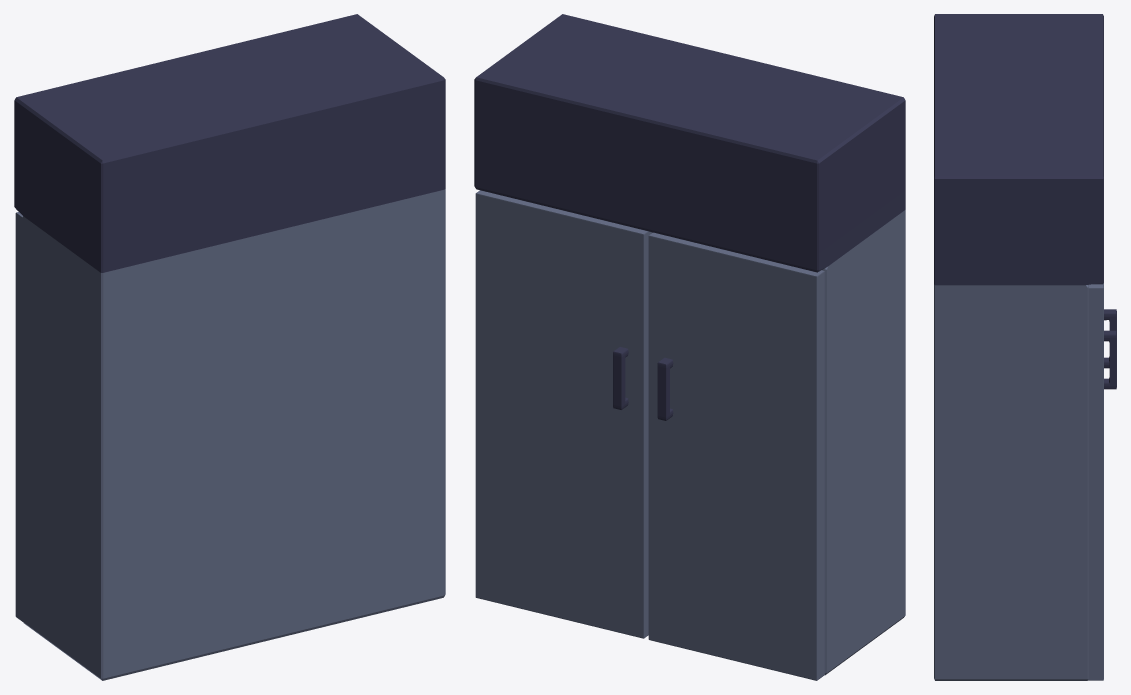
The model's file is F_Refrigerator_001.fbx.
The picture shows the model from 3 angles, left to right: view 1: azimuth 30°, elevation 25°; view 2: azimuth 150°, elevation 25°; view 3: azimuth 270°, elevation 25°; orthographic projection. The views are drawn at different scales.
Visible parts, largest first — view 1: F_Refrigerator_001, F_RefrigeratorDoor_001; view 2: F_Refrigerator_001, F_RefrigeratorDoor_001, F_RefrigeratorDoor_002; view 3: F_Refrigerator_001, F_RefrigeratorDoor_002, F_RefrigeratorDoor_001.
Boxes of the visible parts, <box> form: F_Refrigerator_001: <box>14,14,445,680</box>; F_RefrigeratorDoor_001: <box>15,212,22,621</box>; F_Refrigerator_001: <box>474,14,905,675</box>; F_RefrigeratorDoor_001: <box>648,232,824,680</box>; F_RefrigeratorDoor_002: <box>475,190,651,638</box>; F_Refrigerator_001: <box>934,14,1103,680</box>; F_RefrigeratorDoor_002: <box>1088,282,1116,680</box>; F_RefrigeratorDoor_001: <box>1104,309,1116,368</box>.
Size of the model in its own units: 200 by 289 by 94.66.
